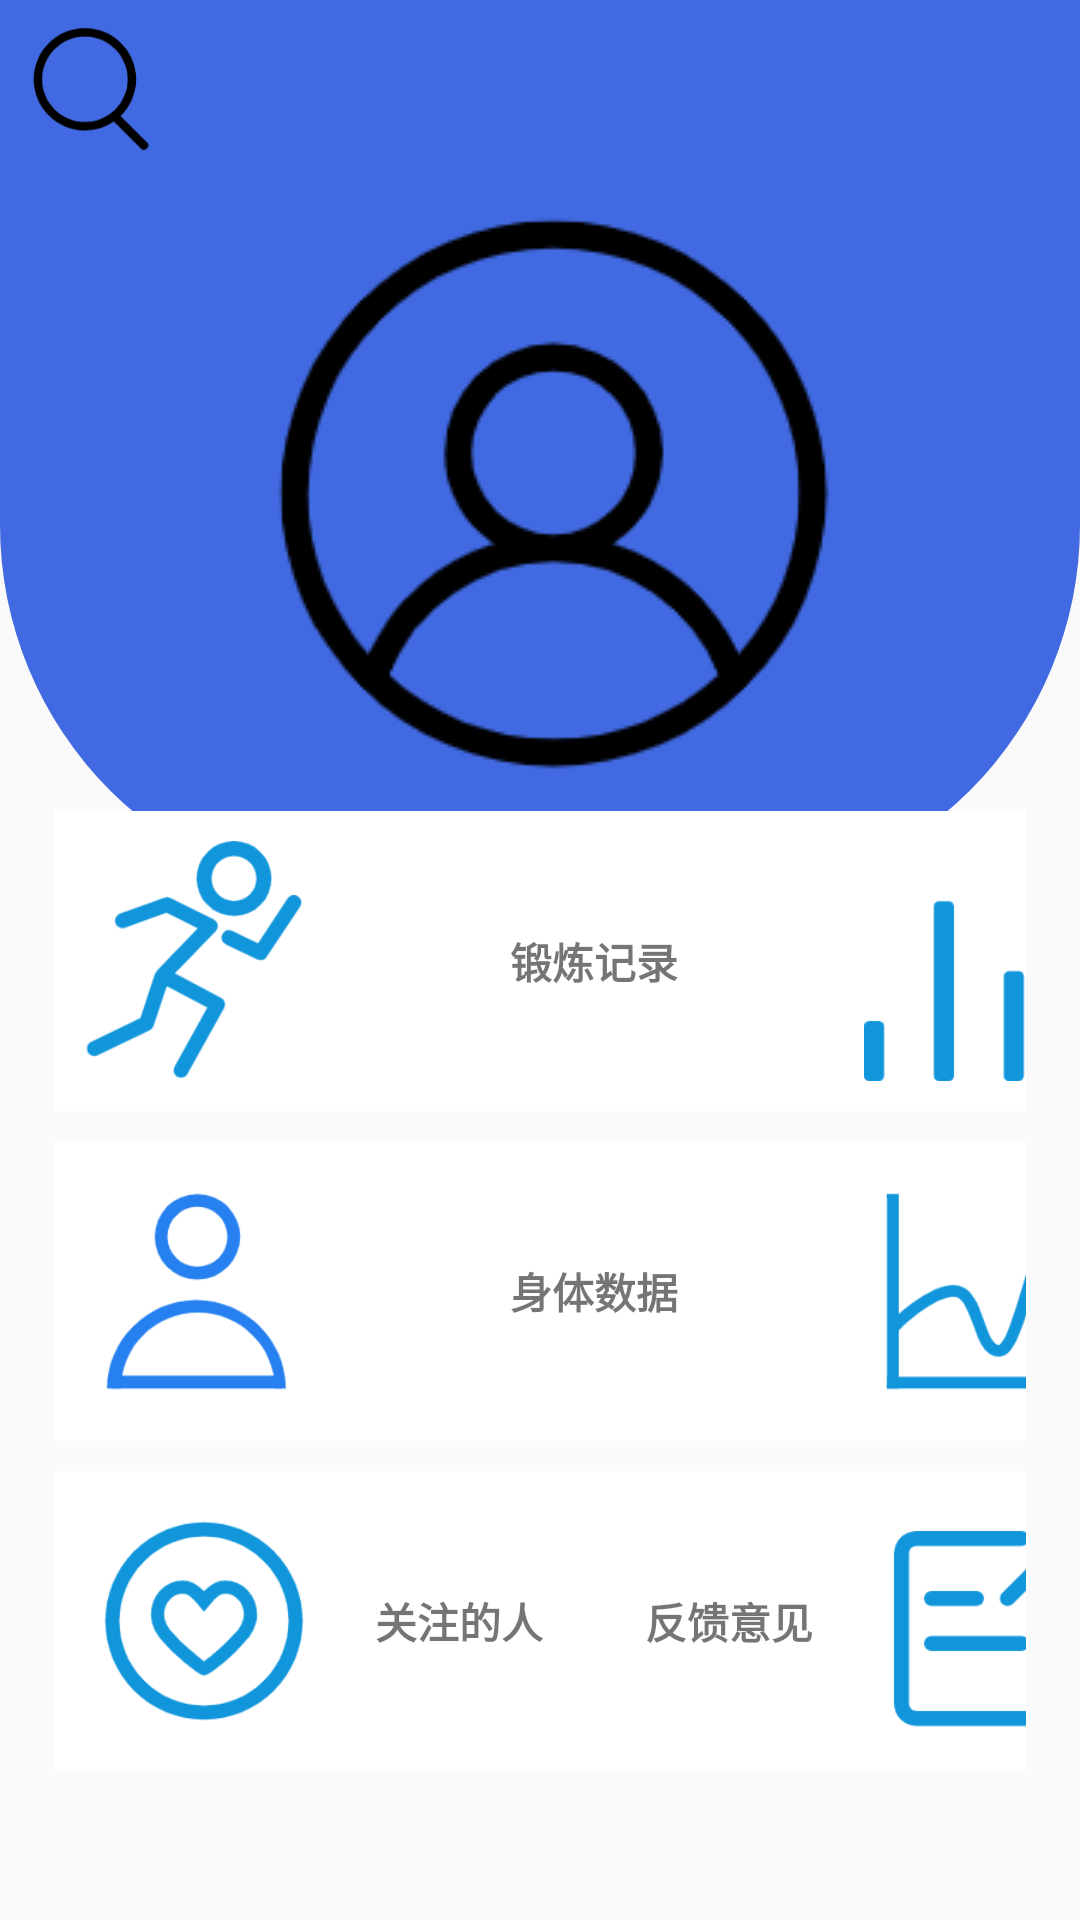

Screen size 1080×1920. Icon name, then its center in pixels as point (x, y):
follow: point (204, 1621)
runningman: point (194, 960)
search: point (91, 89)
